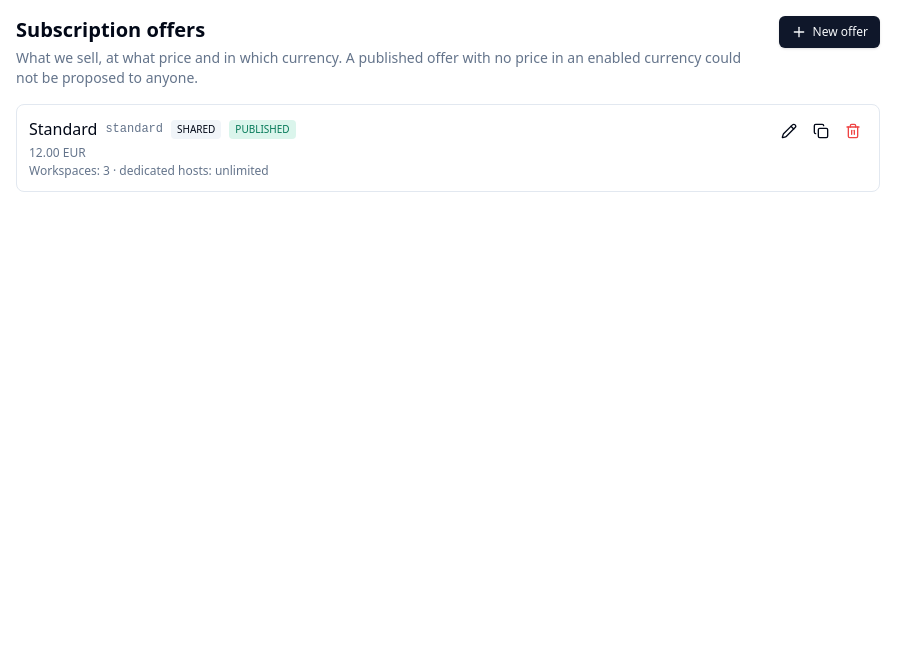
Test case: AdminBillingOffers › la description se saisit en markdown, avec apercu
Click the button named "Edit offer".
click(789, 131)  # box 775,117 -> 803,145
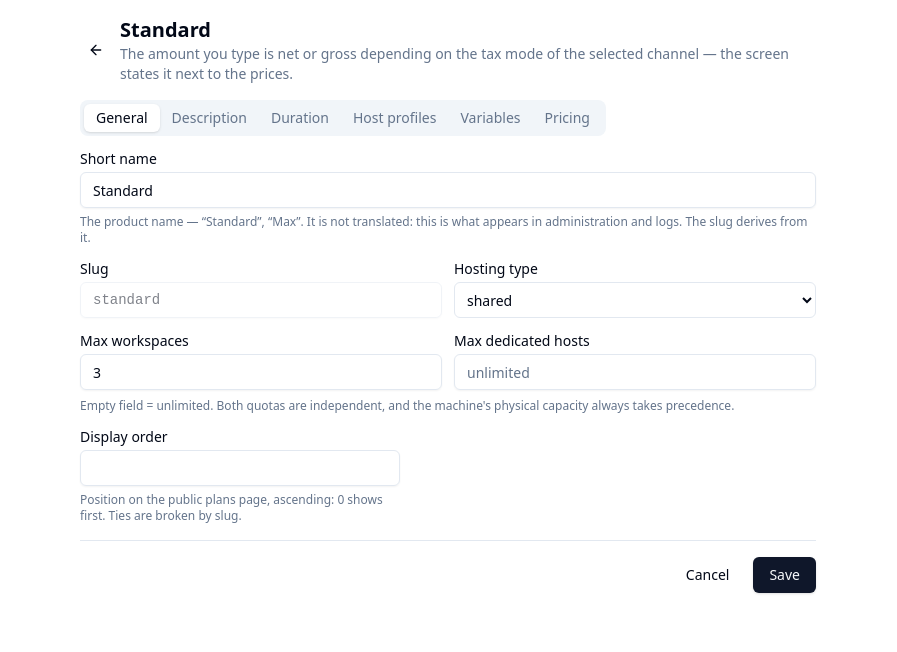
Click the tab "Description".
click(209, 118)  # box 160,104 -> 259,132
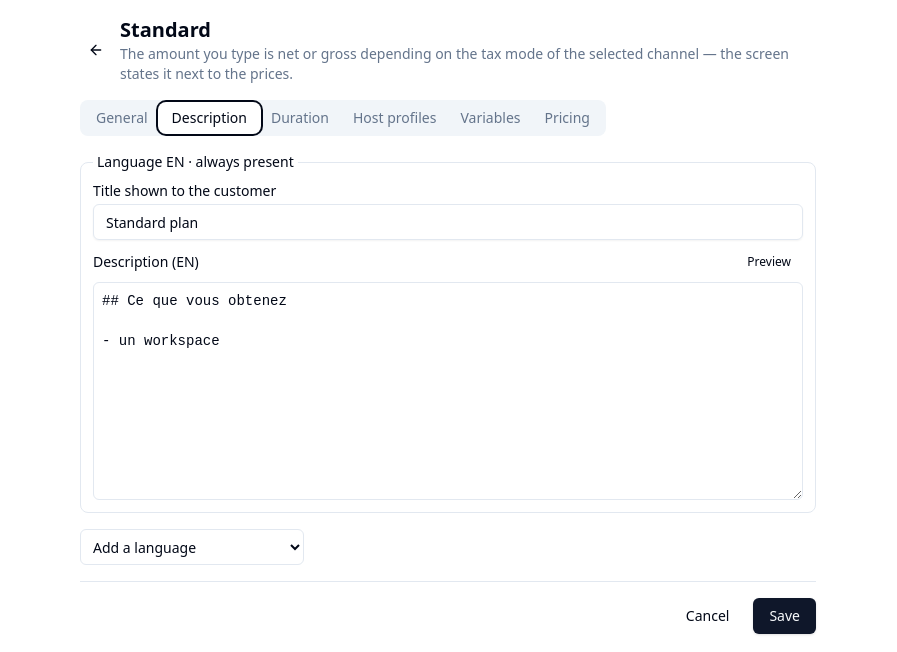
Expected: the field labelled "Title shown to the customer" is shown, 93,204 -> 803,240
Click the button "Preview".
click(769, 262)  # box 735,248 -> 803,276
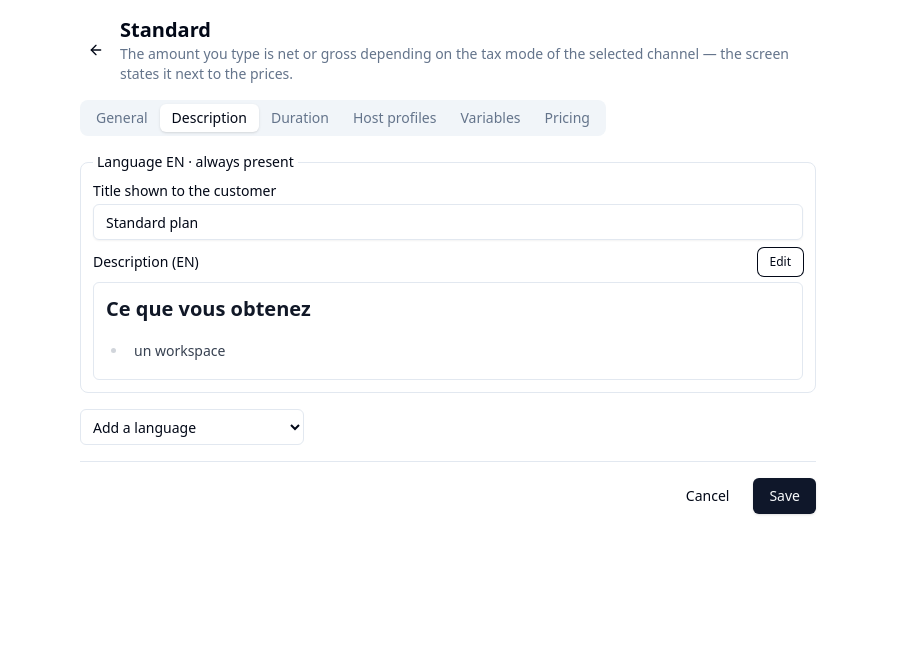
Expected: the heading "Ce que vous obtenez" is shown, 106,295 -> 311,322
